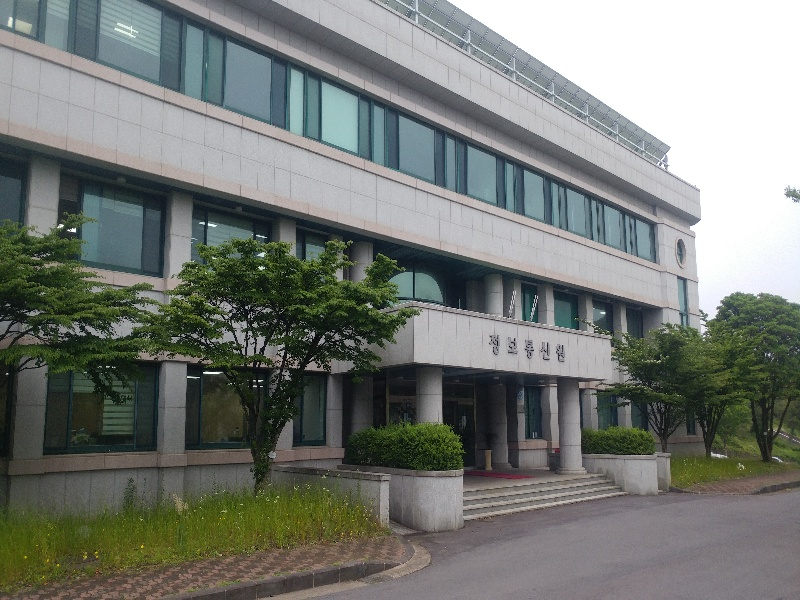Information Telecommunication Center: (1, 4, 709, 463), (360, 39, 695, 459), (473, 325, 587, 376)
